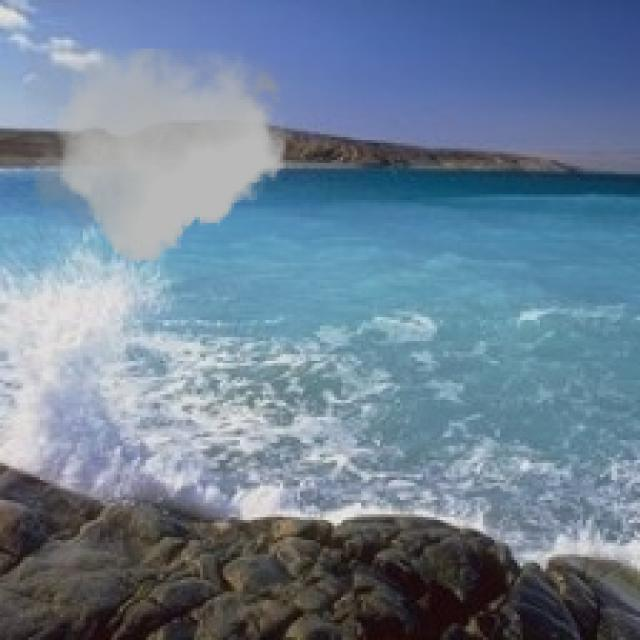Smoke: (25, 48, 292, 263)
